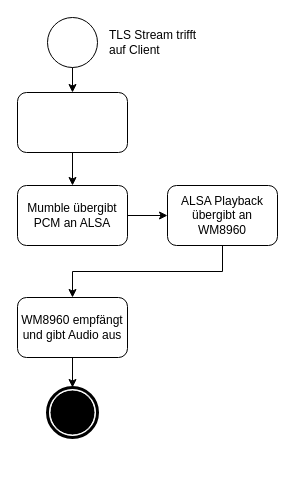
Some shapes in this 295 by 491 pixel diagram are drawn without their labels. Each missing label, with the box of its shape:
Audioausgabe über Lautsprecher: (46, 386, 98, 438)
Mumble-Client entschlüsselt und dekodiert: (16, 92, 128, 152)
